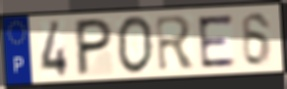4: (38, 19, 70, 79)
6: (239, 11, 274, 67)
E: (195, 12, 238, 71)
O: (114, 15, 155, 76)
P: (75, 17, 115, 79)
R: (153, 13, 198, 73)
